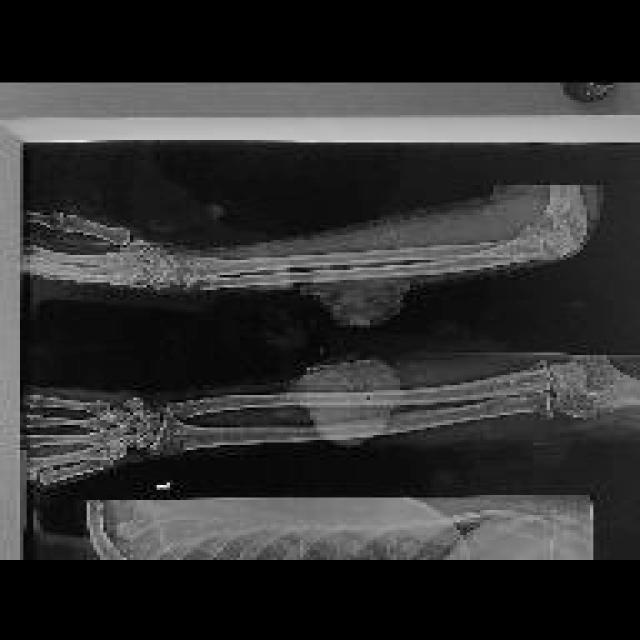bone-cancer: (283, 359, 400, 441), (287, 260, 429, 327)
